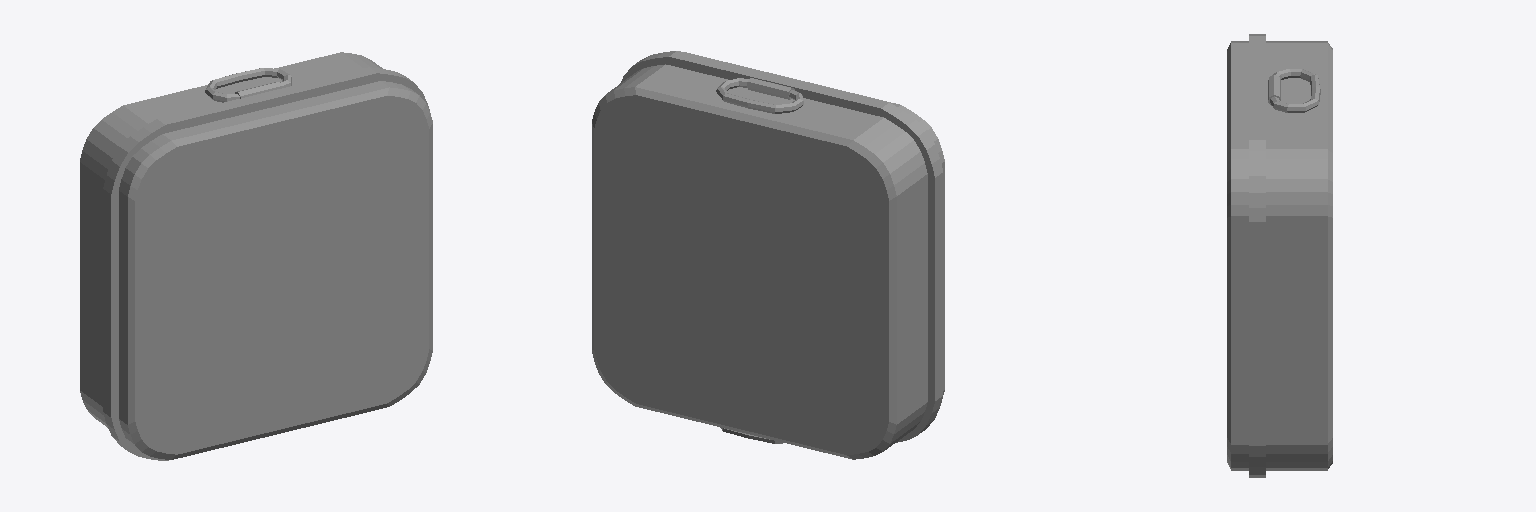
The model's file is Medic_Box.obj.
The picture shows the model from 3 angles: view 1: azimuth 30°, elevation 25°; view 2: azimuth 150°, elevation 25°; view 3: azimuth 270°, elevation 25°; orthographic projection.
Visible parts, largest first — view 1: Cube_Cube.001; view 2: Cube_Cube.001; view 3: Cube_Cube.001.
Part boxes in pixels (left/top/right/bottom): Cube_Cube.001: left=80, top=52, right=432, bottom=460; Cube_Cube.001: left=592, top=51, right=944, bottom=459; Cube_Cube.001: left=1227, top=34, right=1332, bottom=477.
Bounding box in the file's own units: 2.1 × 2.14 × 0.5962.